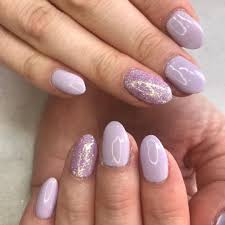nail: (125, 66, 173, 103), (165, 7, 205, 50), (166, 56, 206, 94), (138, 135, 169, 183), (101, 120, 130, 169), (71, 133, 98, 179), (34, 176, 59, 220), (51, 67, 86, 94)
